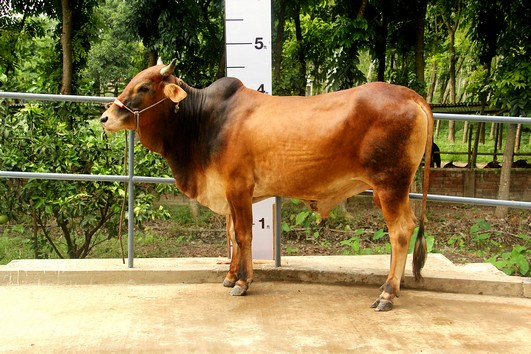cow: (97, 54, 437, 316)
